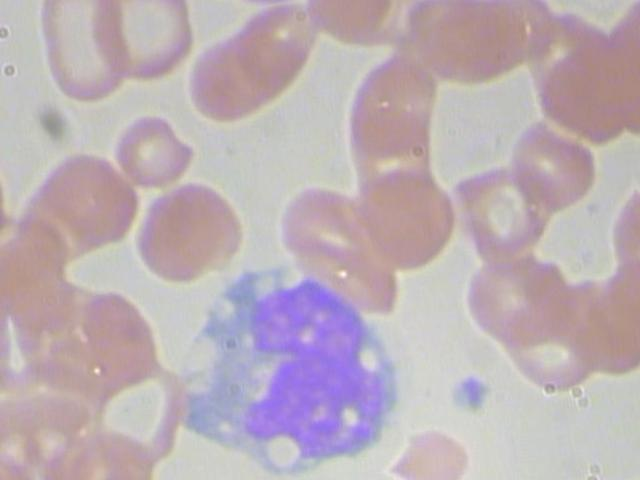Platelets: (31, 144, 148, 262)
RBC: (342, 153, 467, 279), (456, 236, 572, 356), (123, 183, 232, 296), (497, 294, 608, 403), (499, 109, 605, 223), (409, 0, 532, 96), (175, 32, 275, 130), (31, 411, 163, 480), (101, 103, 198, 196), (43, 31, 138, 113), (107, 19, 204, 92), (31, 0, 126, 43), (96, 0, 193, 32), (0, 432, 43, 480)
WBC: (66, 275, 164, 385)
